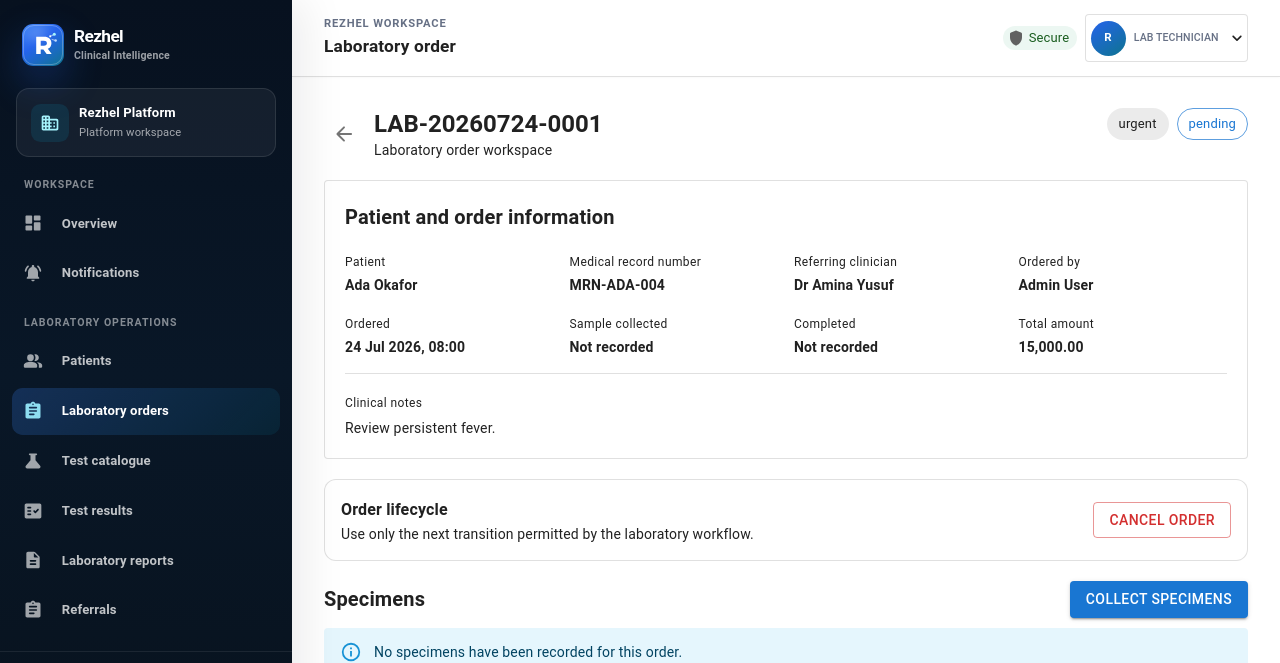
it: laboratory order specimen collection › requires coverage for every active order item
Click the button "Collect specimens" at [1159, 599], box [1070,581,1248,618]
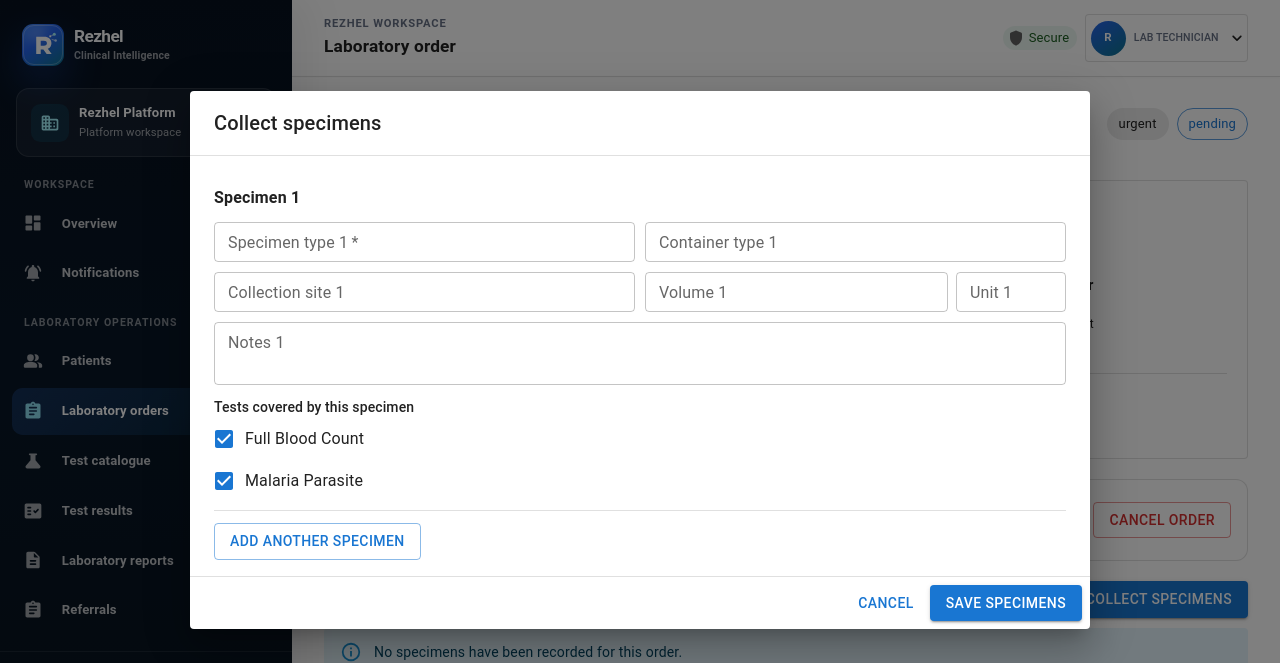
Type "Whole Blood" into the field labelled "Specimen type 1 *" at [424, 242], box [214,222,635,262]
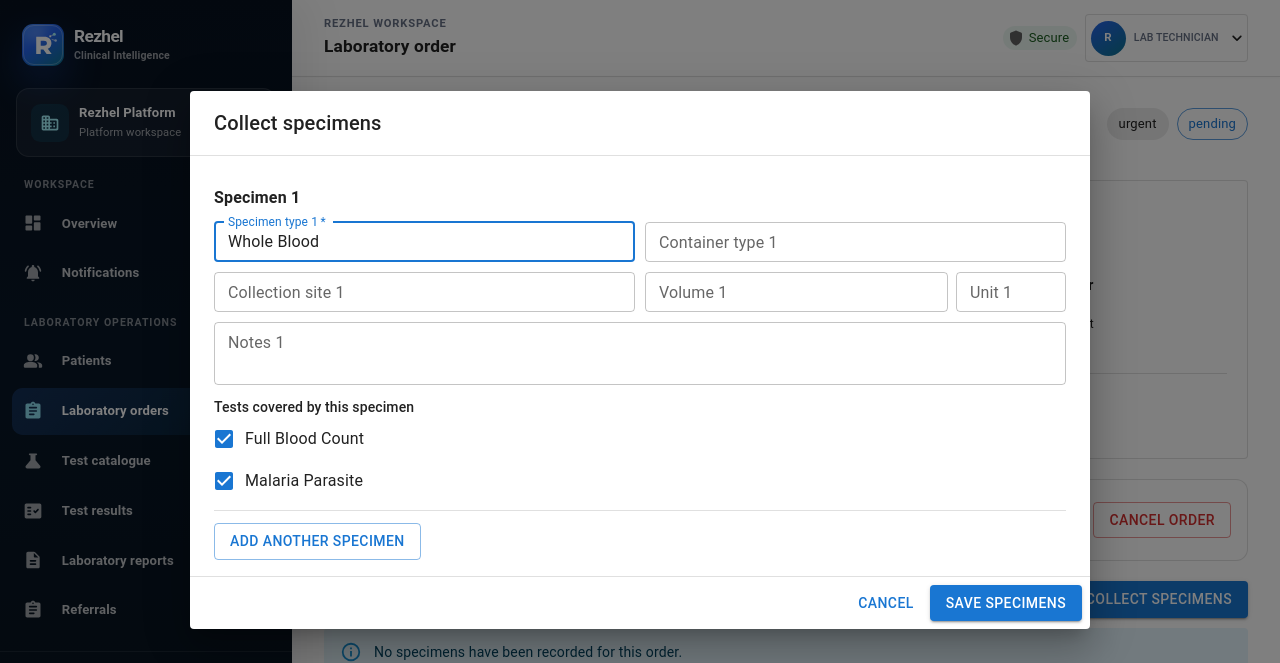
Click the checkbox labelled "Malaria Parasite" at [288, 482], box [212,470,363,494]
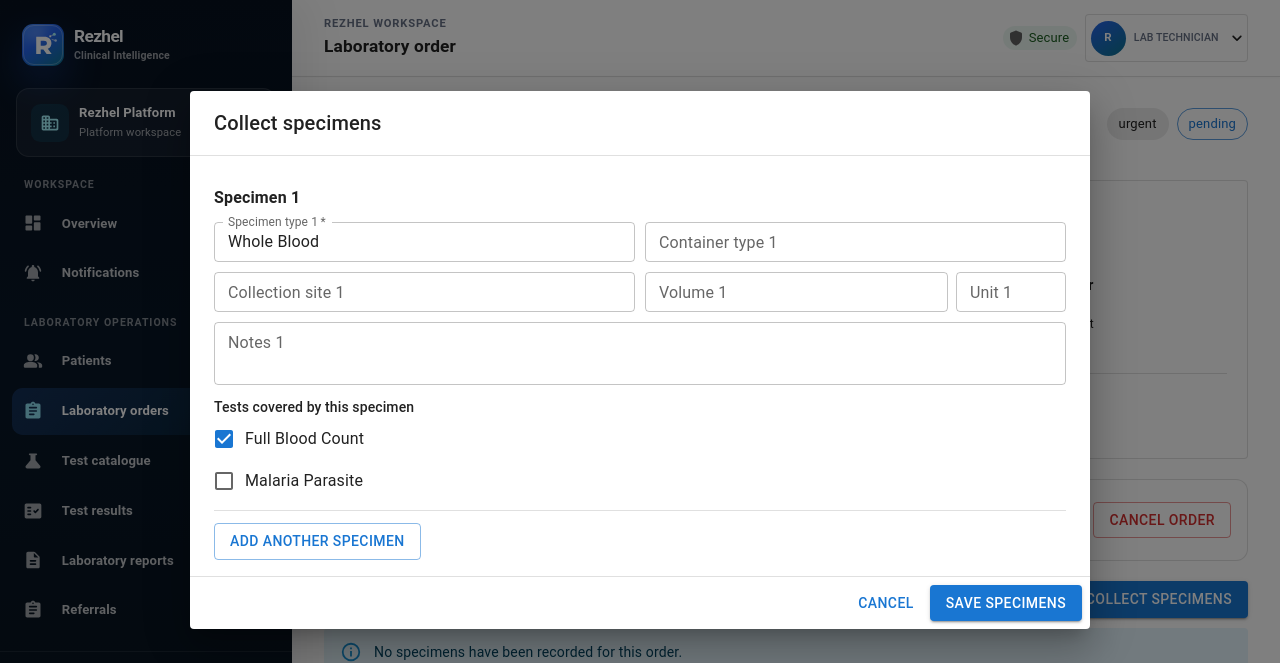
Click the button "Save specimens" at [1006, 603], box [930,585,1082,622]
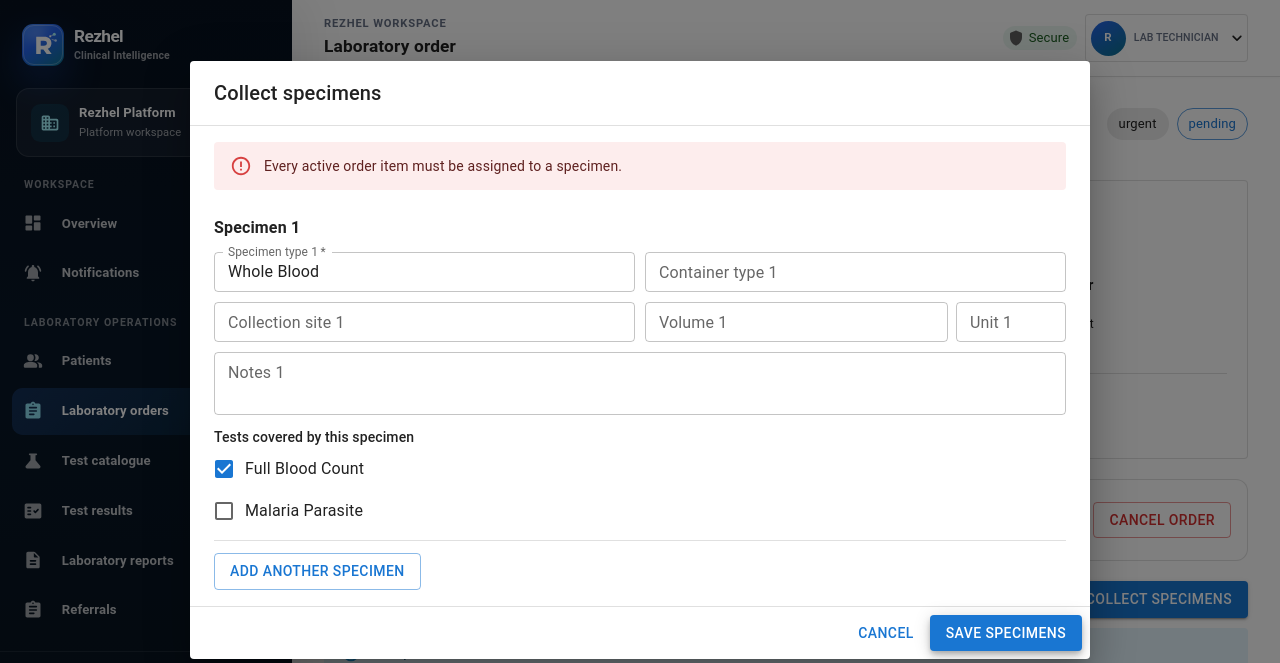
Expected: the text "Every active order item must be assigned to a specimen." is shown, [264,158,622,174]
